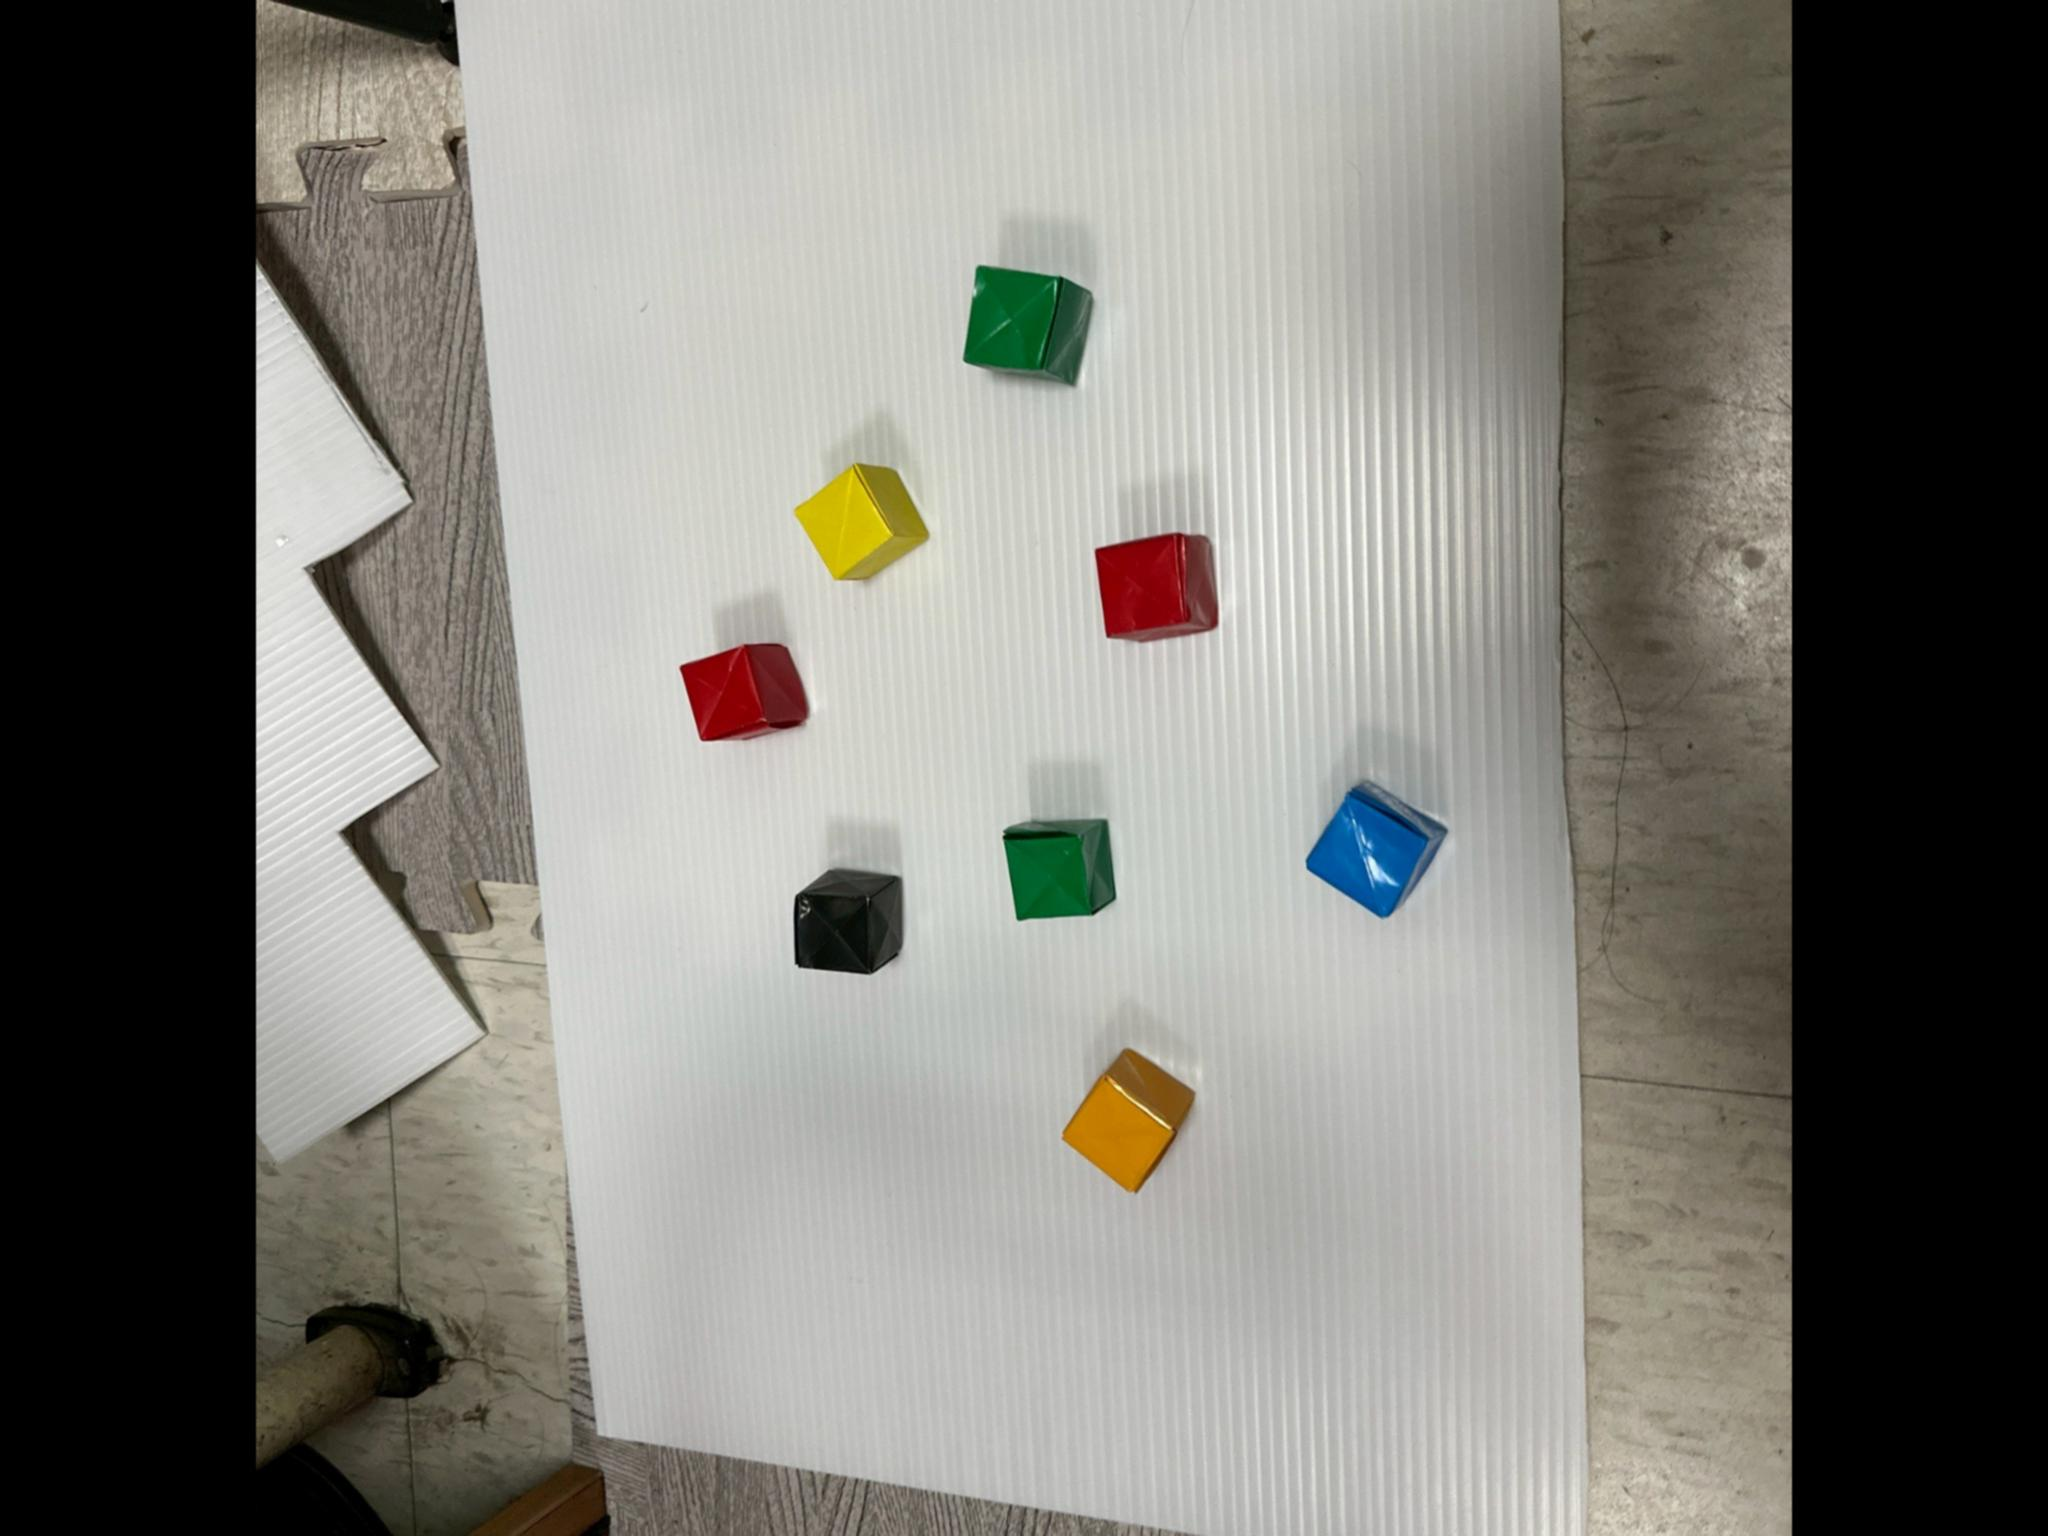base: (1307, 782, 1447, 917), (1063, 1050, 1193, 1191), (963, 266, 1092, 383), (796, 465, 927, 578), (1096, 533, 1218, 640), (680, 643, 807, 739), (794, 868, 902, 973), (1004, 819, 1114, 920)
